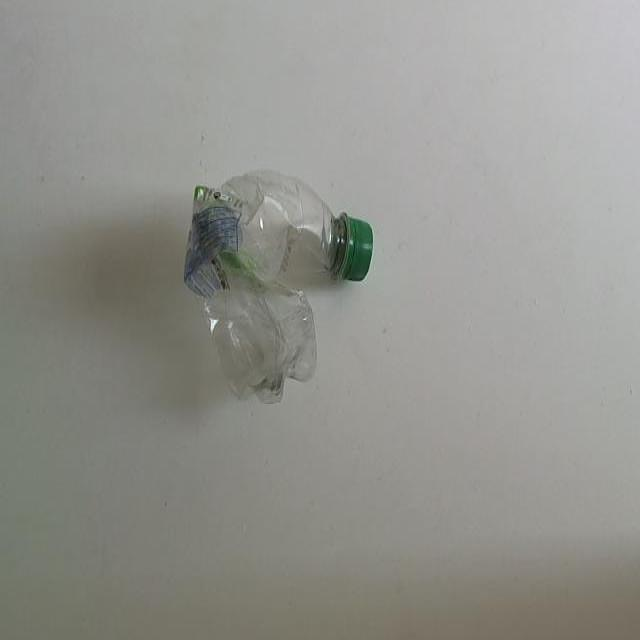defect: (180, 168, 375, 408)
